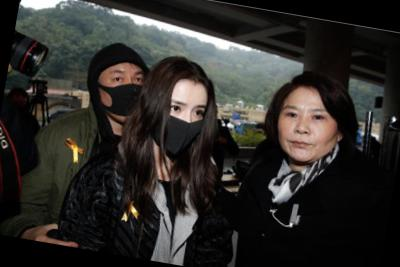with_mask: (150, 96, 211, 164), (91, 62, 150, 130)
without_mask: (270, 100, 345, 169)
